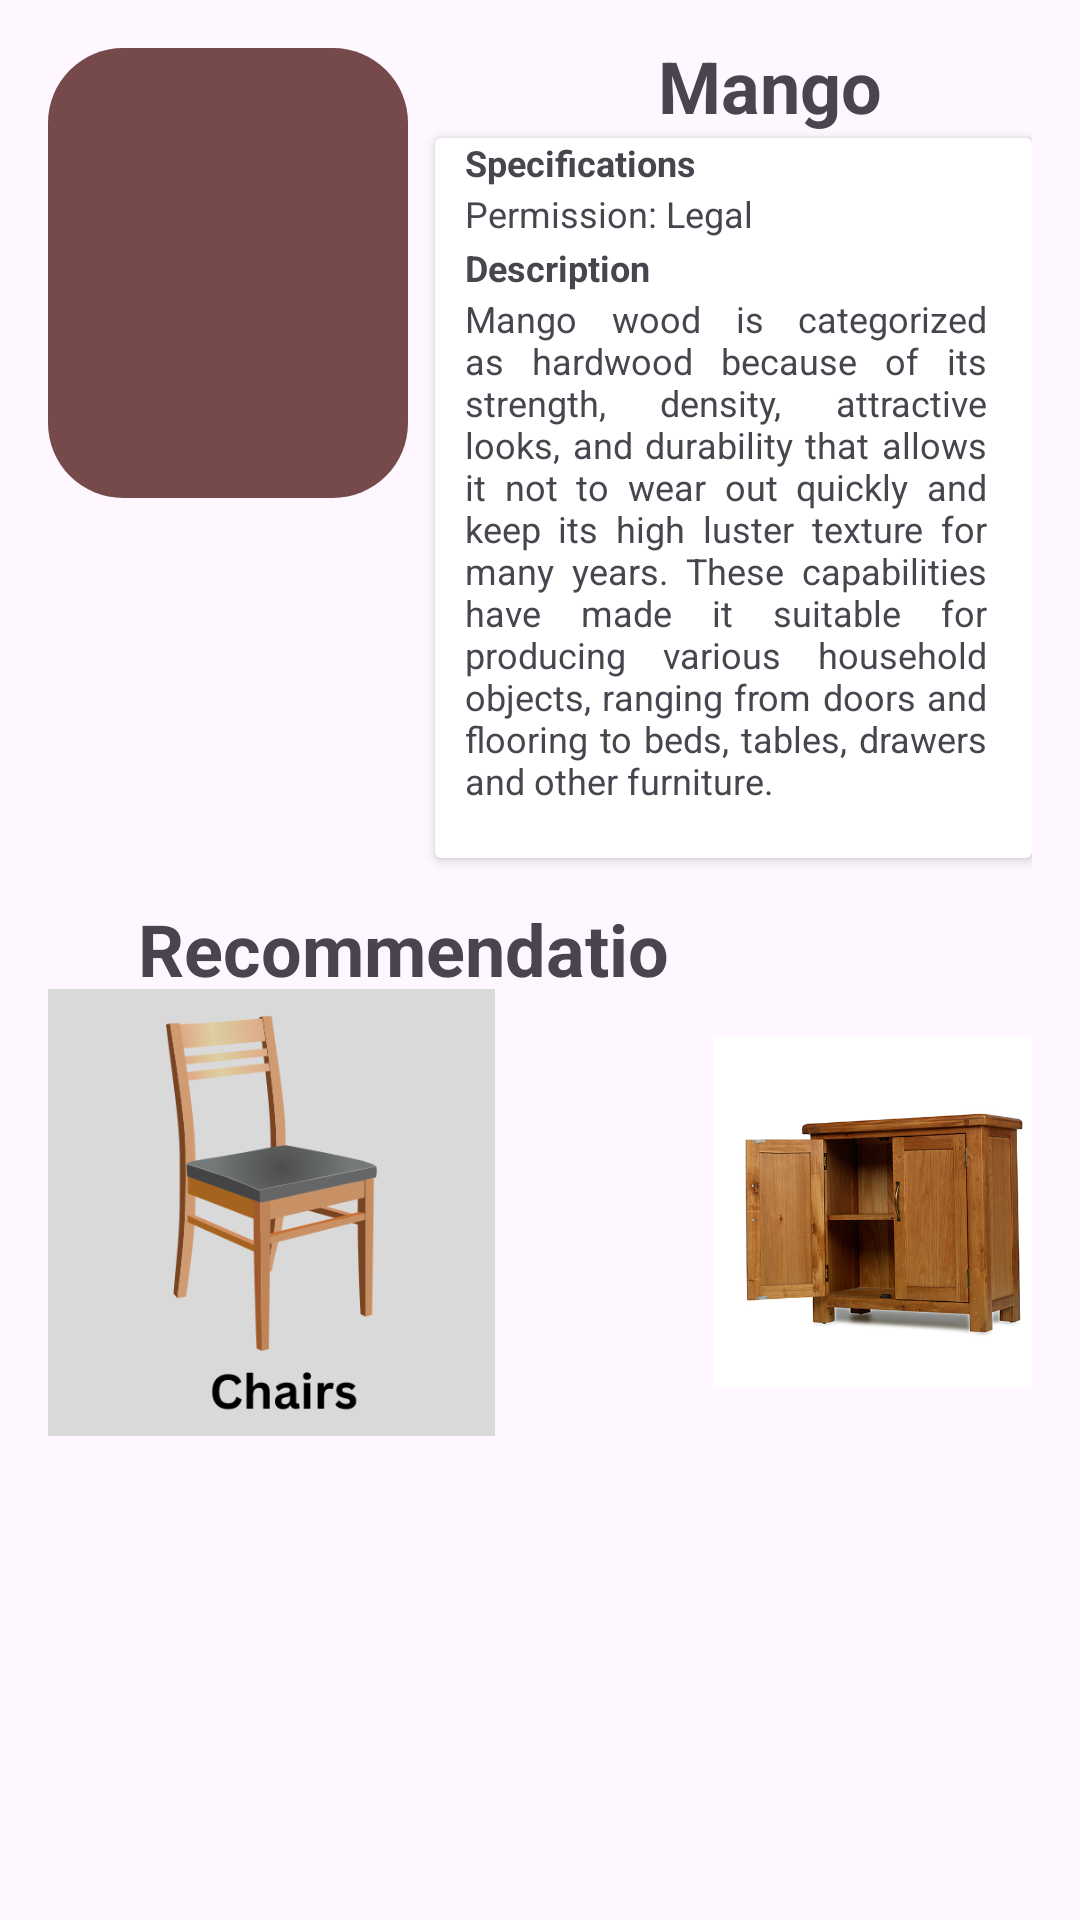

Icons on this 1080×1920 Android screen, each with its box as bbox=[x1, y1, x2, y2]:
cabinet: bbox=[745, 1113, 1023, 1334]
